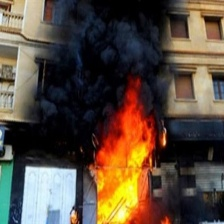fire: (97, 138, 154, 224)
smoke: (45, 2, 175, 156)
